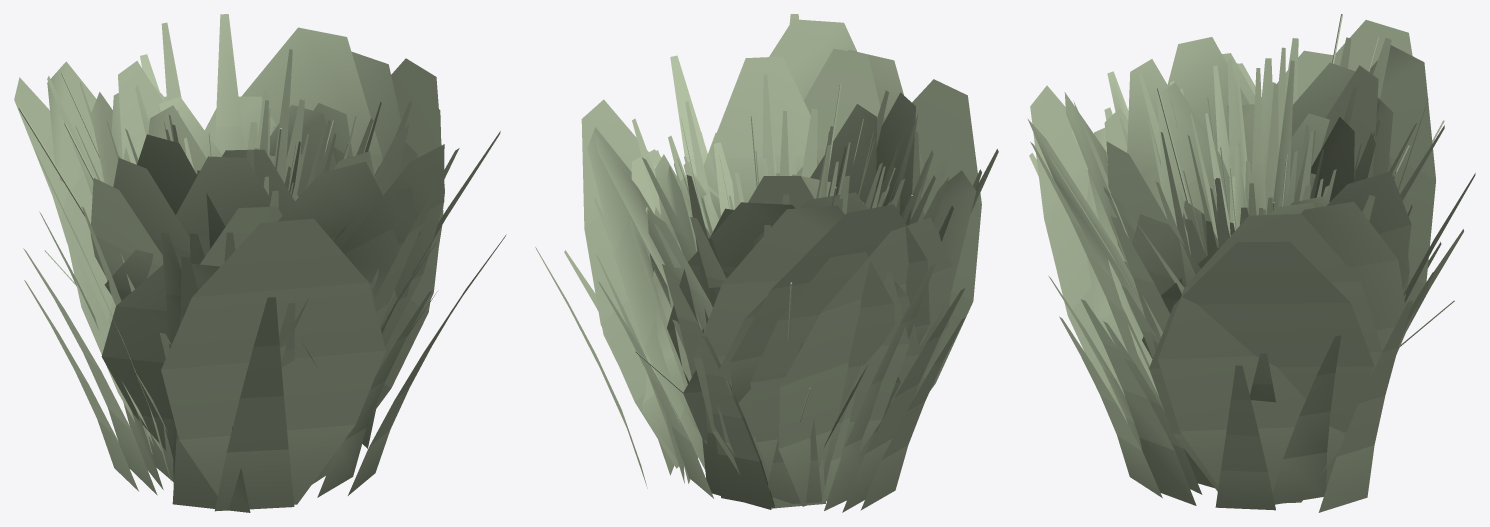
File: herb_grassy.glb
3 views of the same model, side by side, from view 1: azimuth 30°, elevation 25°; view 2: azimuth 150°, elevation 25°; view 3: azimuth 270°, elevation 25° (orthographic). The views are drawn at different scales.
Parts seen in each view (by area): view 1: v1_foliage, v0_foliage, v5_foliage, v2_foliage, v6_foliage, v7_foliage, v4_foliage; view 2: v1_foliage, v0_foliage, v5_foliage, v2_foliage, v6_foliage, v7_foliage, v4_foliage, v3_foliage; view 3: v1_foliage, v2_foliage, v0_foliage, v5_foliage, v4_foliage, v7_foliage, v6_foliage.
Part boxes in pixels (left/top/right/bottom): v1_foliage: left=14, top=27, right=444, bottom=504; v0_foliage: left=53, top=61, right=417, bottom=445; v5_foliage: left=23, top=14, right=500, bottom=512; v2_foliage: left=18, top=107, right=506, bottom=497; v6_foliage: left=75, top=22, right=411, bottom=481; v7_foliage: left=107, top=49, right=356, bottom=200; v4_foliage: left=163, top=90, right=381, bottom=199; v1_foliage: left=581, top=19, right=981, bottom=506; v0_foliage: left=629, top=48, right=948, bottom=473; v5_foliage: left=594, top=14, right=998, bottom=512; v2_foliage: left=535, top=83, right=965, bottom=510; v6_foliage: left=632, top=90, right=933, bottom=508; v7_foliage: left=669, top=74, right=898, bottom=242; v4_foliage: left=683, top=101, right=906, bottom=222; v3_foliage: left=751, top=116, right=895, bottom=502; v1_foliage: left=1027, top=20, right=1454, bottom=503; v2_foliage: left=1048, top=14, right=1463, bottom=512; v0_foliage: left=1073, top=37, right=1378, bottom=295; v5_foliage: left=1029, top=38, right=1475, bottom=488; v4_foliage: left=1148, top=59, right=1374, bottom=253; v7_foliage: left=1160, top=47, right=1379, bottom=253; v6_foliage: left=1077, top=37, right=1428, bottom=254.
Size of the model in its own units: 1.09 by 1 by 1.09.
